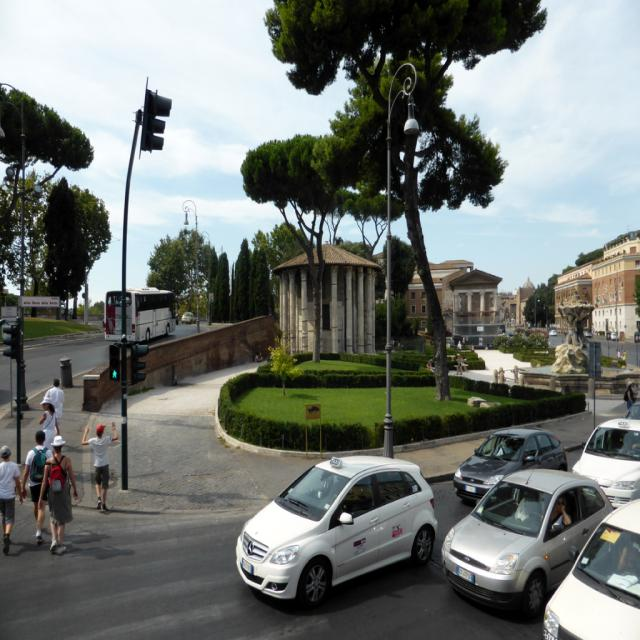car: (234, 457, 438, 611), (180, 311, 196, 323), (548, 328, 556, 335)
